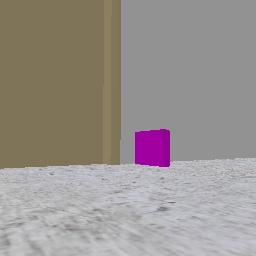mov: (134, 130, 169, 166)
